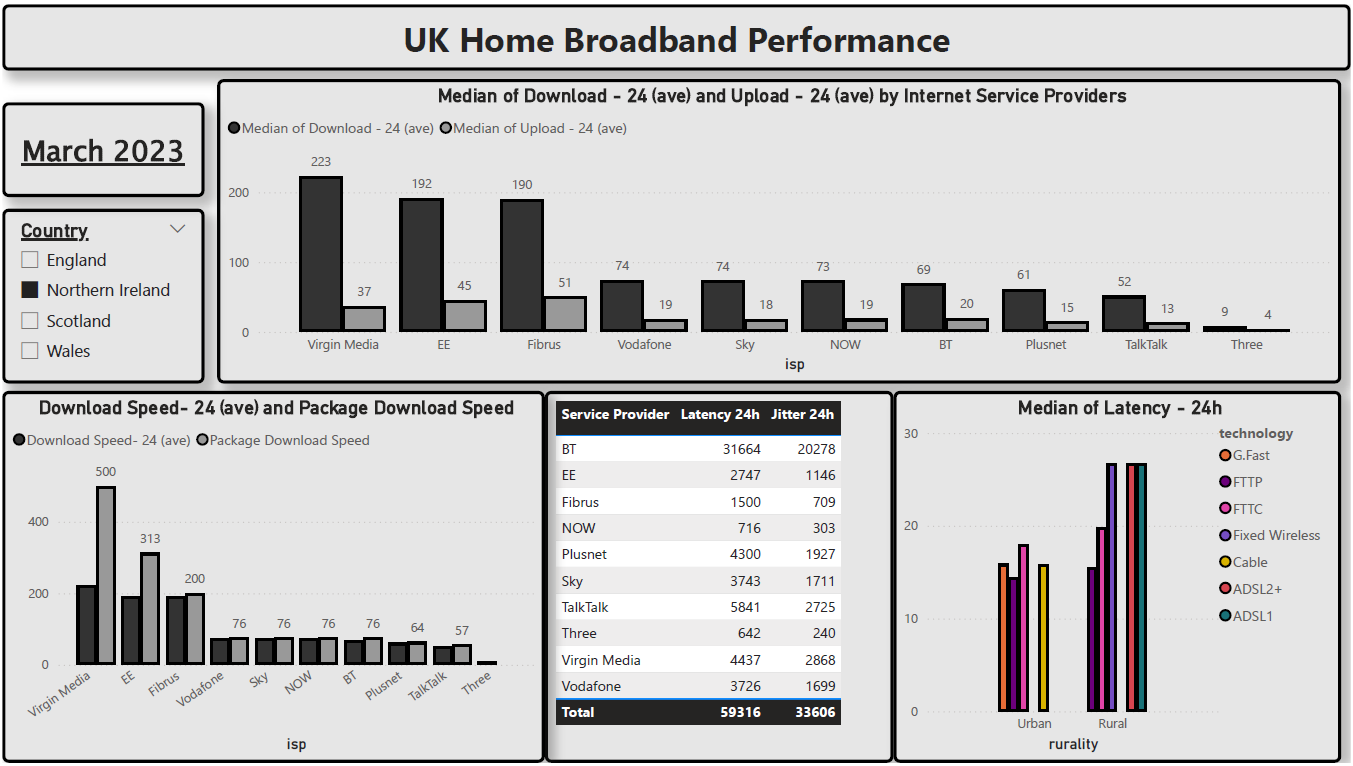

What the dashboard file says about the page in this screenshot:
{"tool":"powerbi","page":{"name":"Page 1","canvas":[1280,720],"ordinal":0},"visuals":[{"type":"textbox","box":[0,0,1280,63.2],"z":0},{"type":"clusteredColumnChart","title":"Median of Download - 24 (ave) and Upload - 24 (ave) by Internet Service Providers","fields":{"Category":["enhanced_network_data (2).isp"],"Y":["Median(enhanced_network_data (2).Download - 24 (ave))","Median(enhanced_network_data (2).Upload - 24 (ave))"]},"box":[204,71.2,1066.7,288.9],"z":1000},{"type":"slicer","fields":{"Values":["enhanced_network_data (2).country"]},"box":[0,194.4,192,165.1],"z":2000},{"type":"tableEx","fields":{"Values":["enhanced_network_data (2).isp","Sum(enhanced_network_data (2).Latency24h)","Sum(enhanced_network_data (2).Jitter24h)"]},"box":[514.8,367,331.4,353.3],"z":3000},{"type":"clusteredColumnChart","title":"Median of Latency - 24h ","fields":{"Category":["enhanced_network_data (2).rurality"],"Series":["enhanced_network_data (2).technology"],"Y":["Median(enhanced_network_data (2).Latency - 24h)"]},"box":[846.2,367,424.5,353.3],"z":4001},{"type":"clusteredColumnChart","title":"Download Speed- 24 (ave) and Package Download Speed","fields":{"Category":["enhanced_network_data (2).isp"],"Y":["Median(enhanced_network_data (2).Download - 24 (ave))","Median(enhanced_network_data (2).package_download_speed)"]},"box":[0,367,514.8,353.3],"z":4002},{"type":"textbox","box":[0,92.9,192,90.5],"z":4003}]}

Visuals, with their boxes in screenshot pixels (x1, y1, x2, y2), scaled from the page's 1280x720 canvas onto the 1353x766 screenshot:
textbox: (x1=0, y1=0, x2=1352, y2=67)
"Median of Download - 24 (ave) and Upload - 24 (ave) by Internet Service Providers" clusteredColumnChart: (x1=216, y1=76, x2=1343, y2=383)
slicer - enhanced_network_data (2).country: (x1=0, y1=207, x2=203, y2=382)
tableEx - enhanced_network_data (2).isp x Sum(enhanced_network_data (2).Latency24h): (x1=544, y1=390, x2=894, y2=765)
"Median of Latency - 24h " clusteredColumnChart: (x1=894, y1=390, x2=1343, y2=765)
"Download Speed- 24 (ave) and Package Download Speed" clusteredColumnChart: (x1=0, y1=390, x2=544, y2=765)
textbox: (x1=0, y1=99, x2=203, y2=195)
